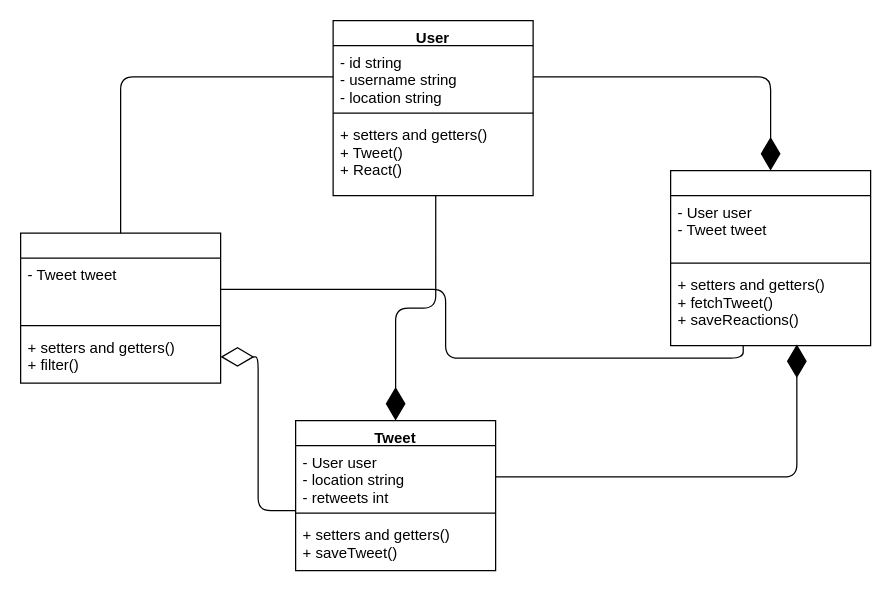
Some shapes in this 891 by 591 pixel diagram are drawn without their labels. The shapes that lost their labels are listed below. From the top down, each one's box as (x1, y1, x2, y2) in pixels, then its label:
(669, 169, 871, 346): Tweeter DB
(19, 232, 221, 383): Tweet Feed
